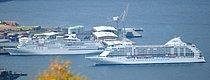Ship: (84, 39, 210, 68), (4, 31, 114, 59)
